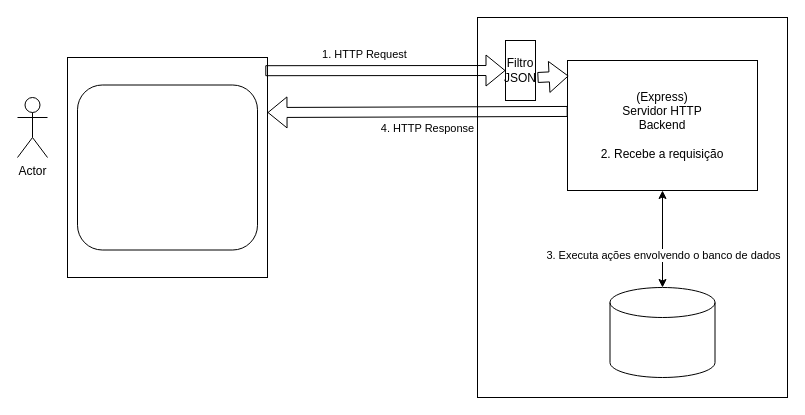
Image size: 805x415. Some labels were removed from this diagram. The shapes that lost their labels are listed below. From the top down, each one's centre as x and y in pixels, then its label:
point 167,167: Cliente HTTP Frontend (Rest API Client - Hua Chaomao)
point 662,332: Banco de Dados
